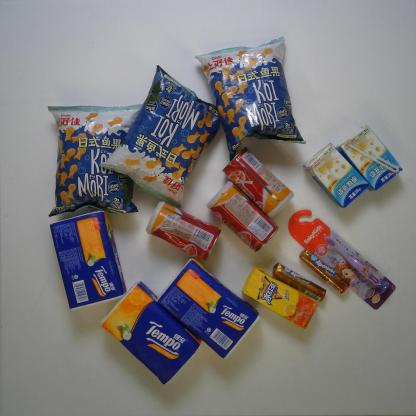Candy: (298, 249, 350, 296), (271, 262, 327, 302)
Canned Food: (206, 180, 279, 252), (222, 148, 295, 217), (144, 200, 222, 260)
Drink: (242, 268, 320, 329)
Milk: (303, 142, 369, 210), (339, 127, 403, 190)
Personal Hygiene: (286, 207, 395, 311)
Puffed Food: (97, 64, 220, 215), (196, 34, 306, 158), (48, 101, 142, 217)
Tissue: (97, 281, 202, 384), (156, 259, 259, 359), (47, 208, 126, 312)
